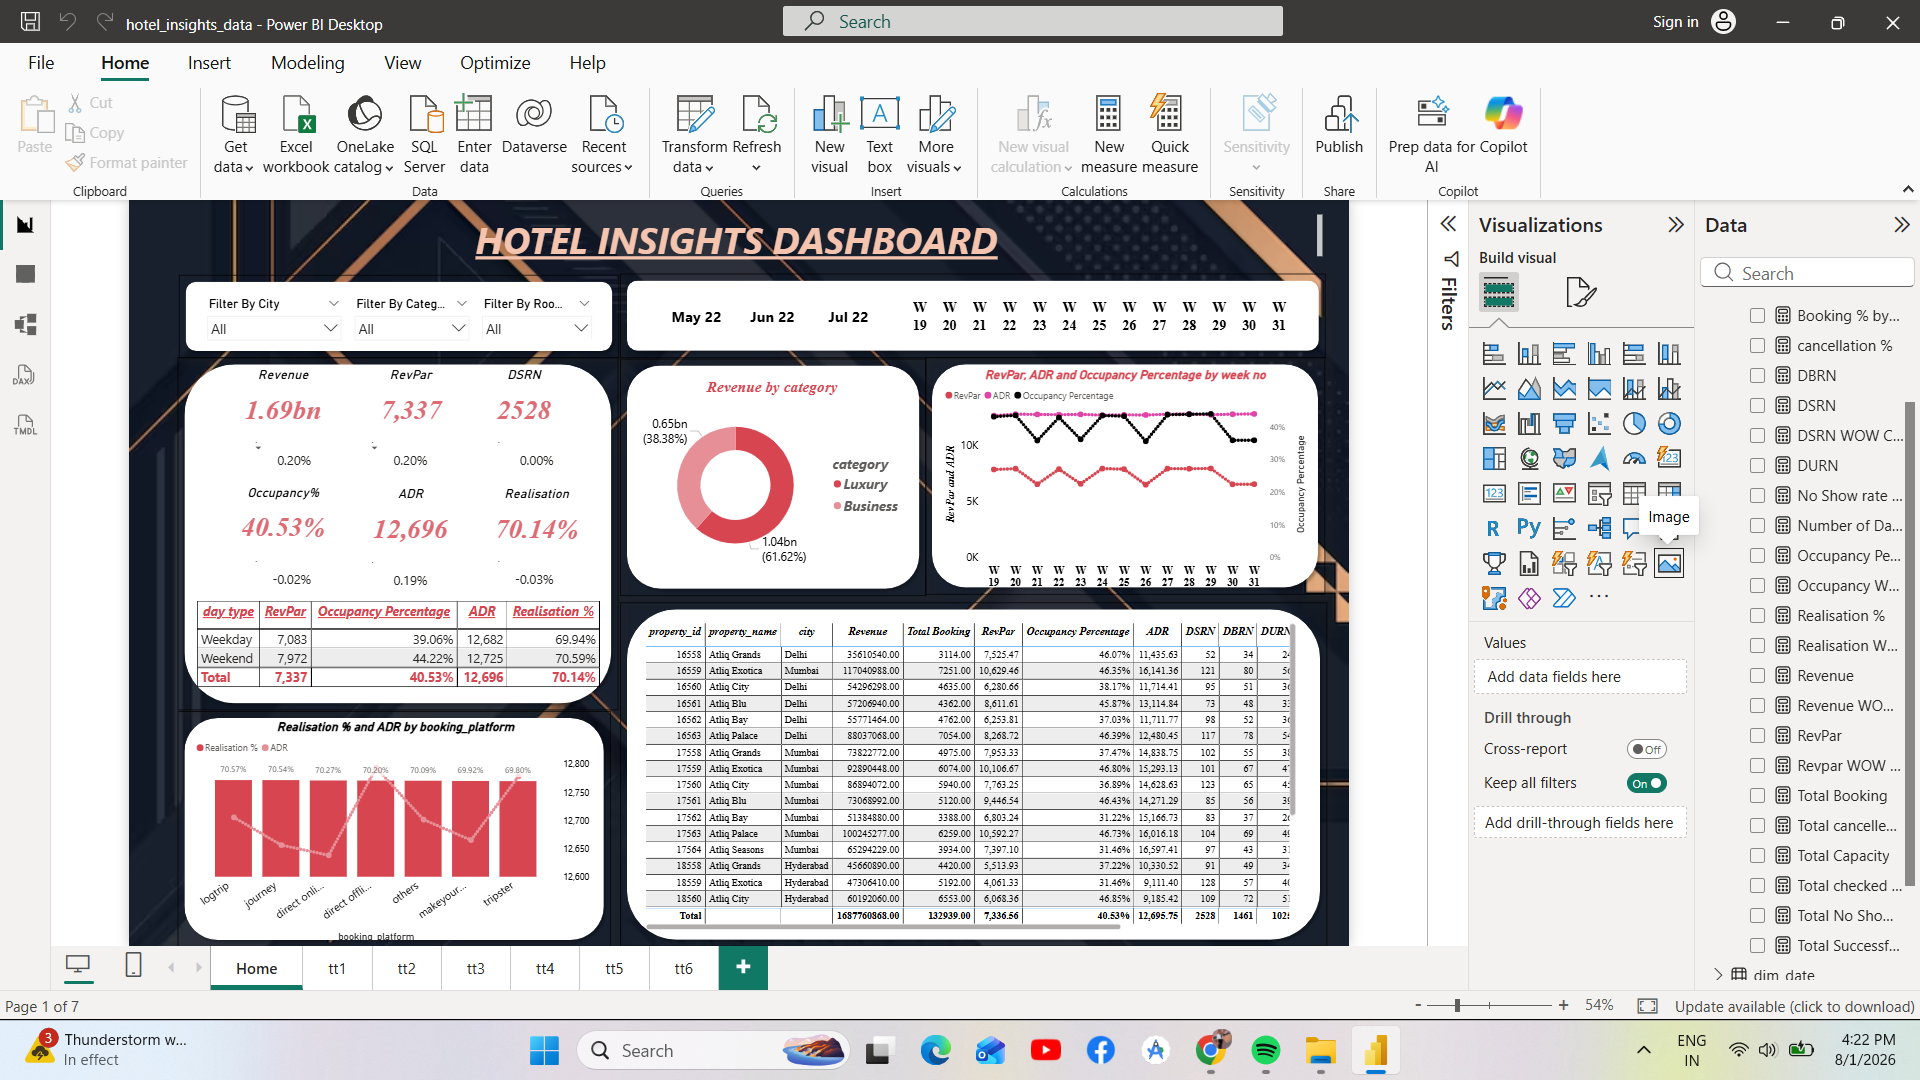

What the dashboard file says about the page in this screenshot:
{"tool":"powerbi","page":{"name":"Home","canvas":[1800,1100],"ordinal":0},"visuals":[{"type":"shape","box":[73.3,111.1,648.9,122.2],"z":0},{"type":"textbox","box":[34.6,16.4,1729.7,76.4],"z":1000},{"type":"slicer","fields":{"Values":["dim_hotels.city"]},"box":[104.4,137.8,217.8,73.3],"z":2000},{"type":"slicer","fields":{"Values":["dim_hotels.category"]},"box":[321.9,138.2,189.2,72.8],"z":3000},{"type":"slicer","fields":{"Values":["dim_rooms.room_class"]},"box":[511.1,138.2,181.9,67.3],"z":4000},{"type":"shape","box":[723.9,109.1,1040.3,123.7],"z":5000},{"type":"slicer","fields":{"Values":["dim_date.mmm yy"]},"box":[755.6,126.7,384.4,88.9],"z":6000},{"type":"slicer","fields":{"Values":["dim_date.week no"]},"box":[1118.6,127.3,622,89.1],"z":7000},{"type":"shape","box":[72.8,232.8,649.3,520.2],"z":8000},{"type":"card","title":"Revenue","fields":{"Values":["important_measure.Revenue"]},"box":[149.1,247.4,156.4,98.2],"z":9000},{"type":"card","title":"Occupancy%","fields":{"Values":["important_measure.Occupancy Percentage"]},"box":[154.6,420.1,145.5,96.4],"z":10000},{"type":"card","title":"RevPar","fields":{"Values":["important_measure.RevPar"]},"box":[336.5,247.4,156.4,98.2],"z":11000},{"type":"card","title":"ADR","fields":{"Values":["important_measure.ADR"]},"box":[305.6,422,218.3,98.2],"z":12000},{"type":"card","title":"Realisation","fields":{"Values":["important_measure.Realisation %"]},"box":[492.9,422,218.3,98.2],"z":13000},{"type":"card","title":"DSRN","fields":{"Values":["important_measure.DSRN"]},"box":[511.1,247.4,143.7,98.2],"z":14000},{"type":"tableEx","fields":{"Values":["important_measure.Revenue WOW Change%"]},"box":[174.6,338.3,103.7,69.1],"z":15000},{"type":"tableEx","fields":{"Values":["important_measure.Revpar WOW Change%"]},"box":[347.4,338.3,103.7,69.1],"z":16000},{"type":"tableEx","fields":{"Values":["important_measure.DSRN WOW Change%"]},"box":[532.9,338.3,103.7,69.1],"z":17000},{"type":"tableEx","fields":{"Values":["important_measure.Occupancy WOW Change%"]},"box":[174.6,514.7,103.7,69.1],"z":18000},{"type":"tableEx","fields":{"Values":["important_measure.ADR WOW Change%"]},"box":[347.4,516.5,103.7,69.1],"z":19000},{"type":"tableEx","fields":{"Values":["important_measure.Realisation WOW Change%"]},"box":[532.9,514.7,103.7,69.1],"z":20000},{"type":"tableEx","fields":{"Values":["dim_date.day type","important_measure.RevPar","important_measure.Occupancy Percentage","important_measure.ADR","important_measure.Realisation %"]},"box":[94.6,585.7,607.5,151],"z":21000},{"type":"shape","box":[723.9,234.6,451.1,349.2],"z":22000},{"type":"donutChart","fields":{"Category":["dim_hotels.category"],"Y":["important_measure.Revenue"]},"box":[745.7,263.7,403.8,289.2],"z":23000},{"type":"shape","box":[1174.9,232.8,589.3,349.2],"z":24000},{"type":"lineChart","fields":{"Y":["important_measure.RevPar","important_measure.ADR"],"Y2":["important_measure.Occupancy Percentage"],"Category":["dim_date.week no"]},"box":[1198.6,247.4,542,334.7],"z":25000},{"type":"shape","box":[72.8,753,638.4,347.4],"z":26000},{"type":"lineStackedColumnComboChart","fields":{"Y2":["important_measure.ADR"],"Y":["important_measure.Realisation %"],"Category":["fact_bookings.booking_platform"]},"box":[94.6,767.5,598.4,332.8],"z":27000},{"type":"shape","box":[723.9,592.9,1042.2,507.4],"z":28000},{"type":"tableEx","fields":{"Values":["dim_hotels.property_id","dim_hotels.property_name","dim_hotels.city","important_measure.Revenue","important_measure.Total Booking","important_measure.RevPar","important_measure.Occupancy Percentage","important_measure.ADR","important_measure.DSRN","important_measure.DBRN","important_measure.DURN","important_measure.Realisation %"]},"box":[754.8,618.4,969.4,462],"z":29000}]}

Visuals, with their boxes on the page's 1800x1100 design canvas (x1, y1, x2, y2). These are canvas units, not pixel positions in the 1920x1080 screenshot, which may show the page scaled, cropped or inside an application window:
shape: 73,111,722,233
textbox: 35,16,1764,93
slicer - dim_hotels.city: 104,138,322,211
slicer - dim_hotels.category: 322,138,511,211
slicer - dim_rooms.room_class: 511,138,693,206
shape: 724,109,1764,233
slicer - dim_date.mmm yy: 756,127,1140,216
slicer - dim_date.week no: 1119,127,1741,216
shape: 73,233,722,753
"Revenue" card: 149,247,306,346
"Occupancy%" card: 155,420,300,516
"RevPar" card: 336,247,493,346
"ADR" card: 306,422,524,520
"Realisation" card: 493,422,711,520
"DSRN" card: 511,247,655,346
tableEx - important_measure.Revenue WOW Change%: 175,338,278,407
tableEx - important_measure.Revpar WOW Change%: 347,338,451,407
tableEx - important_measure.DSRN WOW Change%: 533,338,637,407
tableEx - important_measure.Occupancy WOW Change%: 175,515,278,584
tableEx - important_measure.ADR WOW Change%: 347,516,451,586
tableEx - important_measure.Realisation WOW Change%: 533,515,637,584
tableEx - dim_date.day type x important_measure.RevPar: 95,586,702,737
shape: 724,235,1175,584
donutChart - dim_hotels.category x important_measure.Revenue: 746,264,1150,553
shape: 1175,233,1764,582
lineChart - important_measure.RevPar x important_measure.ADR: 1199,247,1741,582
shape: 73,753,711,1100
lineStackedColumnComboChart - important_measure.ADR x important_measure.Realisation %: 95,768,693,1100
shape: 724,593,1766,1100
tableEx - dim_hotels.property_id x dim_hotels.property_name: 755,618,1724,1080
